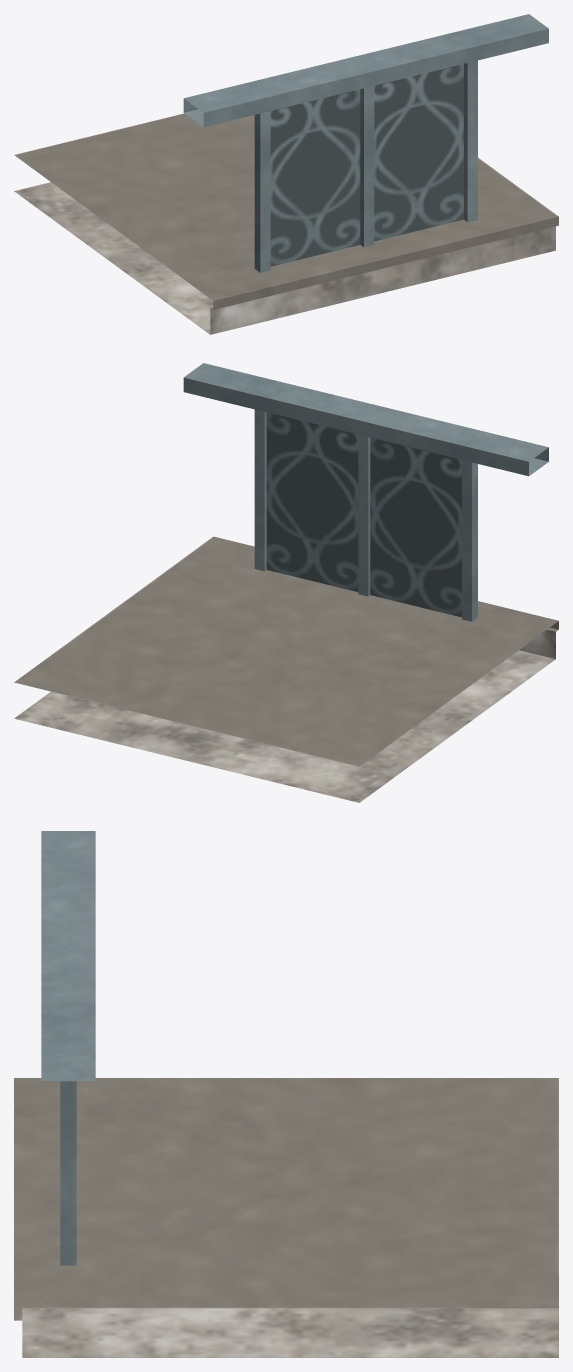
Rendered from sb_obj_outdoor041_Balcony02a.fbx.
3 renders of one model, top to bottom at view 1: azimuth 30°, elevation 25°; view 2: azimuth 150°, elevation 25°; view 3: azimuth 270°, elevation 25°, orthographic. The views are drawn at different scales.
Visible parts, largest first — view 1: iron_edge; view 2: iron_edge; view 3: iron_edge.
Boxes of the visible parts, left/top/right/bottom form: iron_edge: left=14, top=14, right=558, bottom=334; iron_edge: left=14, top=363, right=558, bottom=802; iron_edge: left=14, top=831, right=558, bottom=1357.
Size of the model in its own units: 1 by 0.6 by 1.
